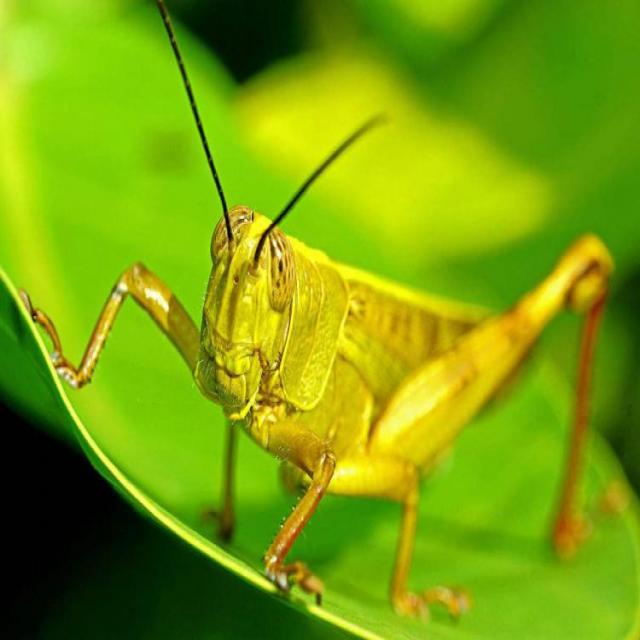ZhaMeng: (62, 202, 601, 566)
